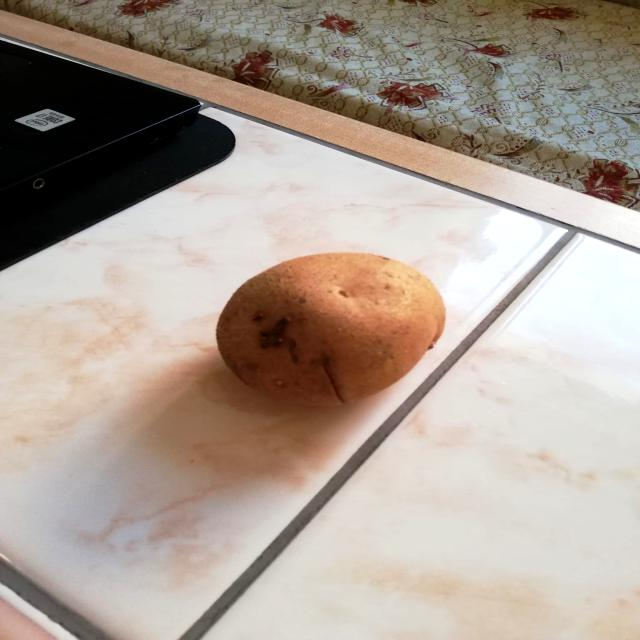potato: (211, 237, 457, 416)
